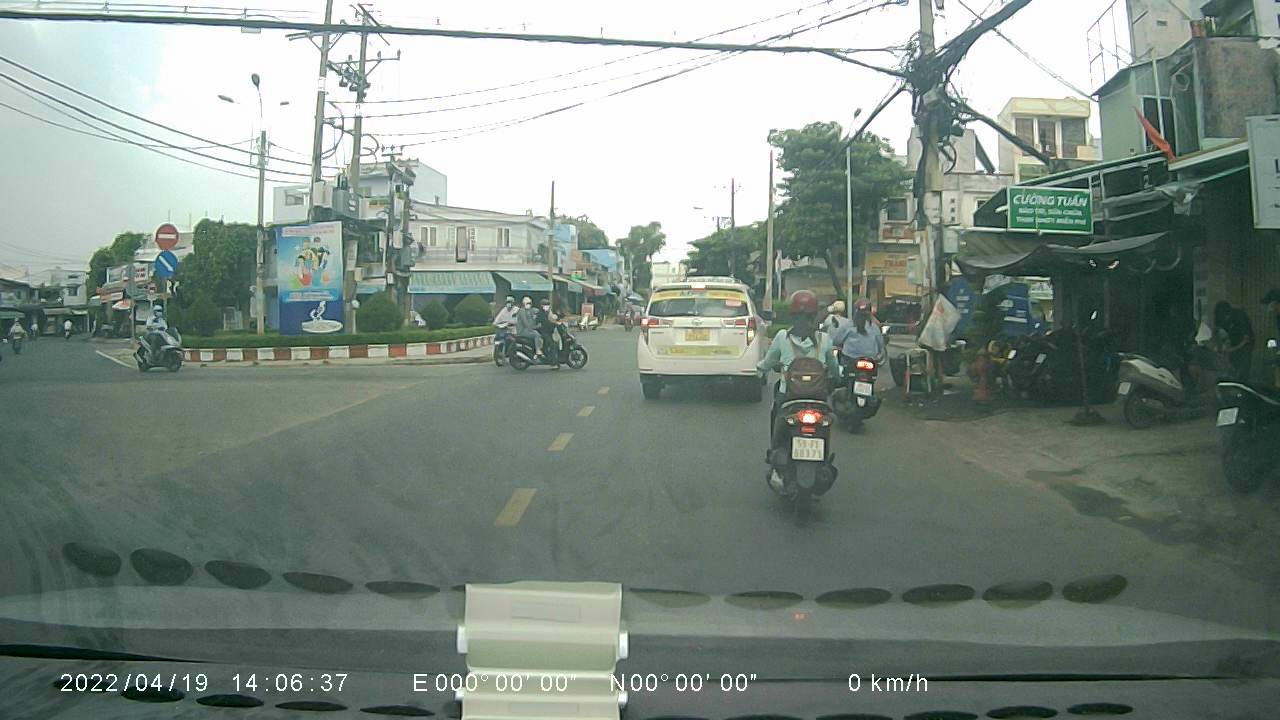Cam di nguoc chieu: (154, 220, 178, 249)
Huong di phai re phai: (152, 250, 180, 277)
